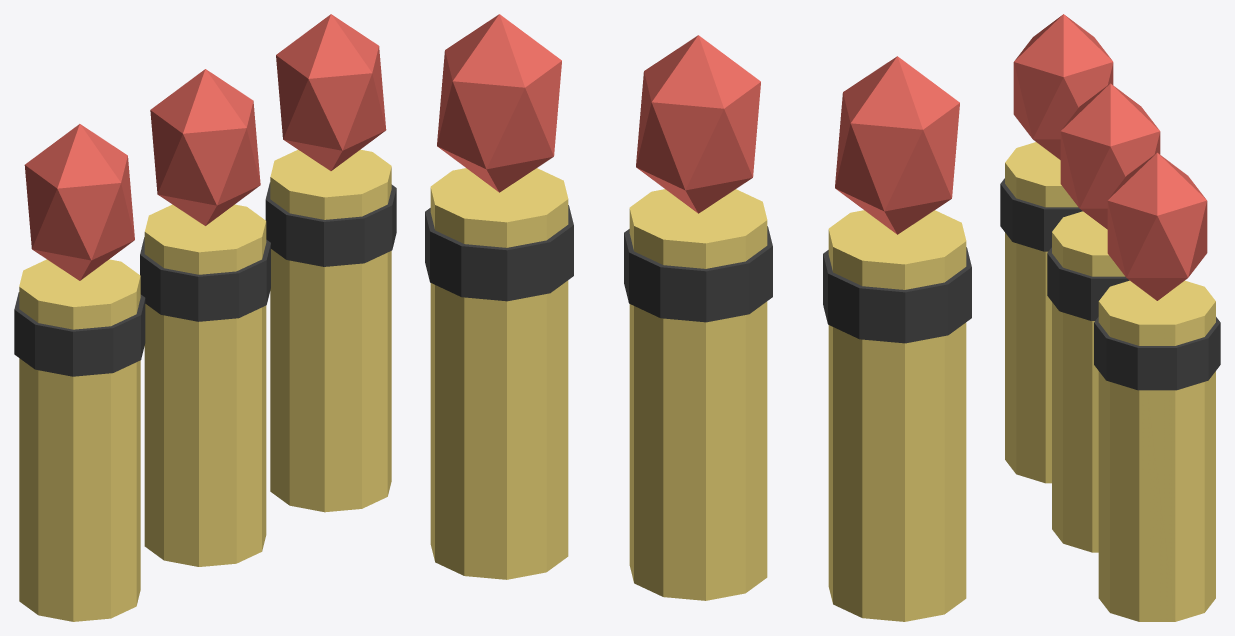
File: AmmoBlast.fbx
The picture shows the model from 3 angles, left to right: view 1: azimuth 30°, elevation 25°; view 2: azimuth 150°, elevation 25°; view 3: azimuth 270°, elevation 25°; orthographic projection. The views are drawn at different scales.
Visible parts, largest first — view 1: Body; view 2: Body; view 3: Body.
Boxes of the visible parts, box(x1,y1,x2,y2) form: Body: box(14, 14, 396, 621); Body: box(425, 14, 971, 621); Body: box(1000, 14, 1220, 621).
Bounding box in the file's own units: 0.1914 × 0.21 × 0.094.
